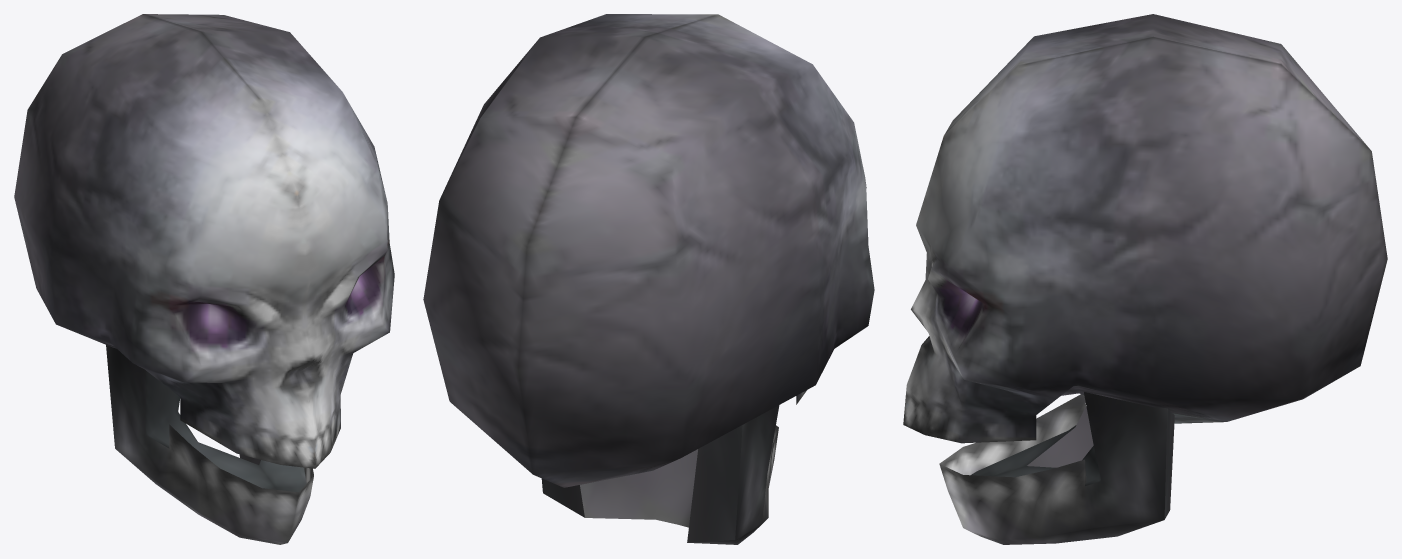
The model's file is proj_SkullFear.fbx.
3 renders of one model, left to right at view 1: azimuth 30°, elevation 25°; view 2: azimuth 150°, elevation 25°; view 3: azimuth 270°, elevation 25°, orthographic. The views are drawn at different scales.
Parts seen in each view (by area): view 1: skull (4); view 2: skull (4); view 3: skull (4).
Part boxes in pixels (left/top/right/bottom): skull (4): left=14, top=14, right=394, bottom=544; skull (4): left=423, top=14, right=874, bottom=544; skull (4): left=903, top=14, right=1387, bottom=544.
Size of the model in its own units: 0.2588 by 0.3774 by 0.332.
